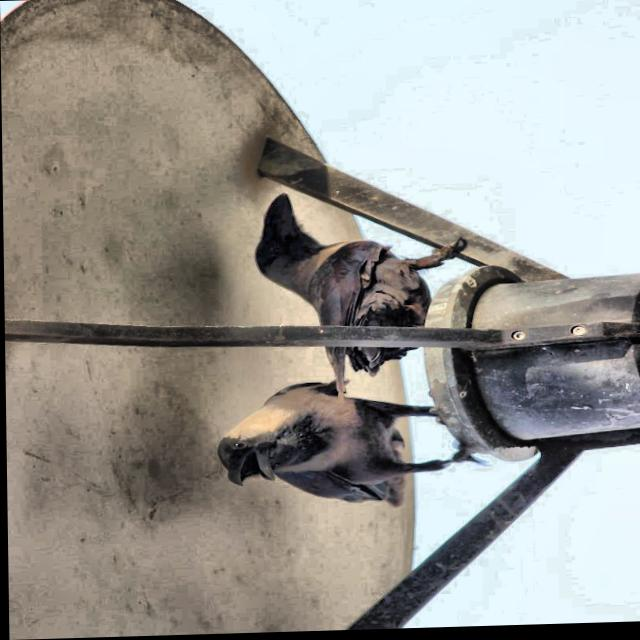crow: (200, 216, 504, 373), (176, 397, 465, 516)
